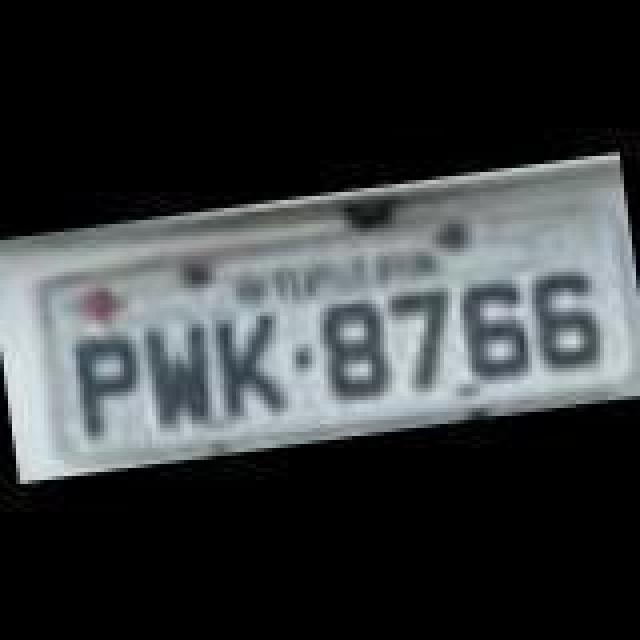6: (526, 256, 610, 368), (454, 274, 538, 382)
7: (388, 282, 468, 398)
8: (312, 292, 392, 404)
K: (214, 308, 290, 428)
P: (68, 330, 148, 446)
W: (142, 318, 218, 434)
